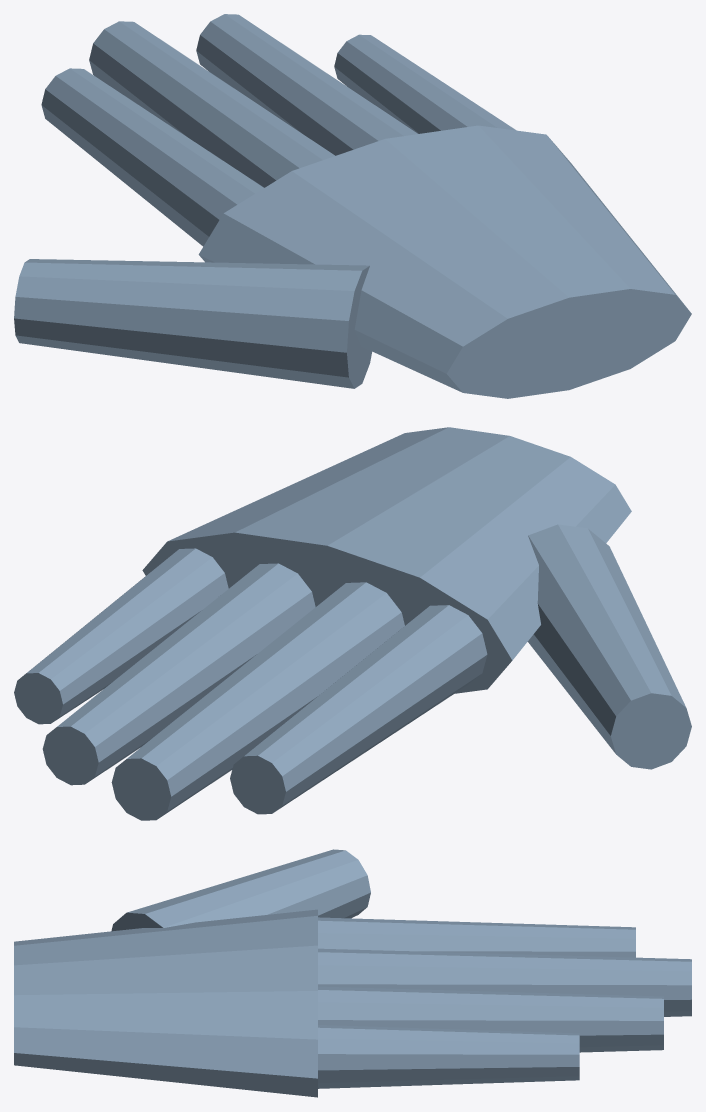
The model's file is udcapc_hand_right.obj.
3 views of the same model, one above another, from view 1: azimuth 30°, elevation 25°; view 2: azimuth 150°, elevation 25°; view 3: azimuth 270°, elevation 25° (orthographic). The views are drawn at different scales.
Visible parts, largest first — view 1: udcapc_hand_right; view 2: udcapc_hand_right; view 3: udcapc_hand_right.
Boxes of the visible parts, x1=… form: udcapc_hand_right: x1=14, y1=14, x2=691, y2=398; udcapc_hand_right: x1=14, y1=427, x2=691, y2=820; udcapc_hand_right: x1=14, y1=849, x2=691, y2=1097.
Size of the model in its own units: 0.1132 by 0.0274 by 0.145.
